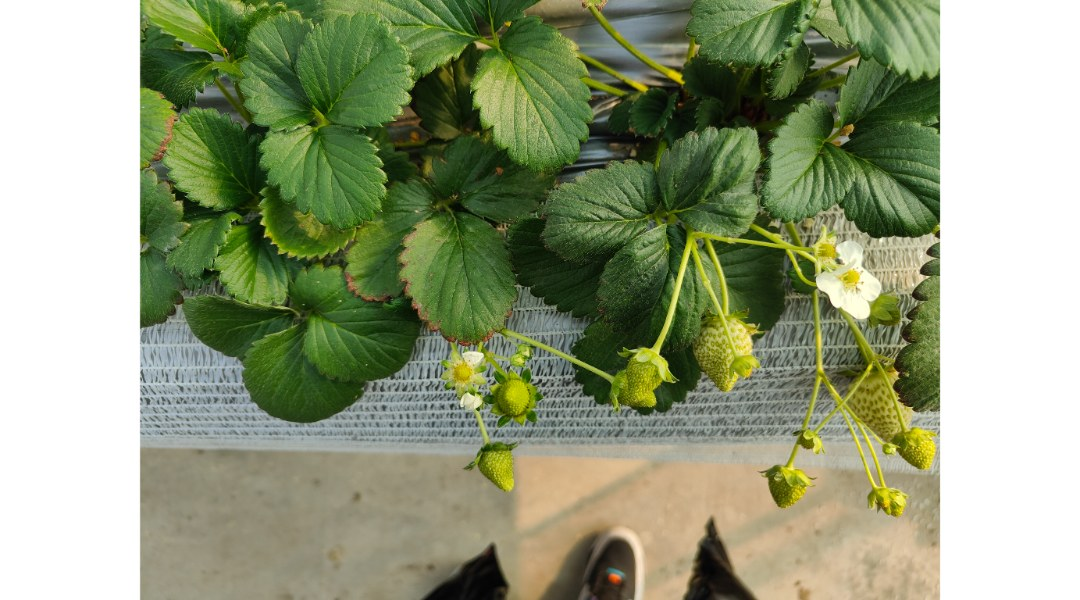berry: (693, 308, 763, 393), (847, 362, 908, 442), (617, 340, 672, 411), (489, 367, 549, 430), (759, 462, 820, 513), (604, 369, 661, 422), (474, 437, 519, 501), (893, 423, 938, 473), (877, 471, 911, 523), (863, 481, 890, 513), (731, 353, 758, 382)
flower: (820, 241, 881, 323)
strain: (499, 327, 611, 379), (654, 237, 688, 343), (695, 248, 718, 306), (713, 234, 760, 252), (715, 266, 732, 306)
